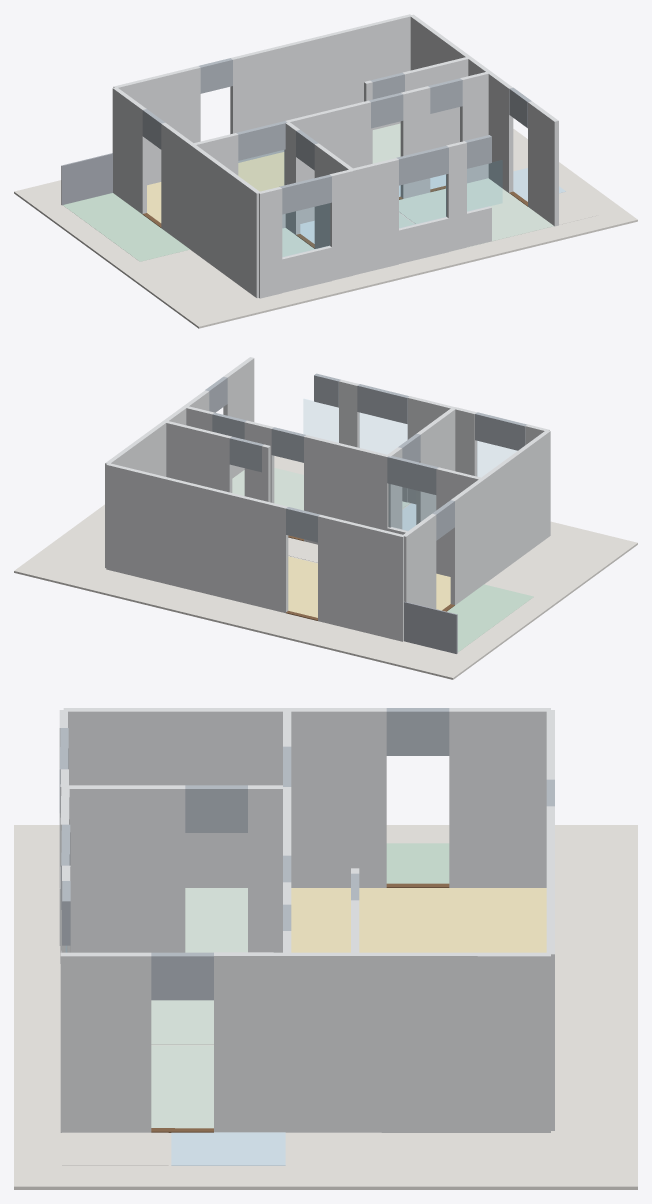
3 views of the same model, one above another, from view 1: azimuth 30°, elevation 25°; view 2: azimuth 150°, elevation 25°; view 3: azimuth 270°, elevation 25° (orthographic). The views are drawn at different scales.
Visible parts, largest first — view 1: floor_slab, wall_post_004_final, wall_002_w3, wall_post_001_00, wall_post_005_final, wall_post_004_00, room_finish_007_balcony, room_finish_004_bedroom, wall_post_007_00, wall_post_003_final, wall_post_005_00, wall_post_003_00 (+29 smaller); view 2: floor_slab, wall_post_004_final, wall_post_004_00, wall_002_w3, wall_post_007_00, wall_post_009_final, wall_post_003_00, wall_post_003_final, room_finish_007_balcony, wall_post_005_final, wall_post_008_00, balcony_rail_01 (+23 smaller); view 3: floor_slab, wall_post_005_final, wall_002_w3, wall_post_008_00, wall_post_003_final, wall_post_003_00, wall_post_005_00, room_finish_008_living_room, wall_post_008_final, room_finish_004_bedroom, room_finish_001_bedroom, room_finish_006_bathroom (+7 smaller).
Part boxes in pixels (x1,y1,x2,y2): floor_slab: (14, 129, 637, 328); wall_post_004_final: (230, 14, 411, 162); wall_002_w3: (190, 144, 259, 298); wall_post_001_00: (351, 158, 398, 275); wall_post_005_final: (410, 14, 513, 192); wall_post_004_00: (113, 66, 200, 185); room_finish_007_balcony: (63, 193, 189, 261); room_finish_004_bedroom: (399, 178, 553, 250); wall_post_007_00: (286, 100, 370, 223); wall_post_003_final: (112, 87, 146, 214); wall_post_005_00: (528, 101, 558, 226); wall_post_003_00: (161, 122, 193, 249); floor_slab: (14, 456, 637, 679); wall_post_004_final: (106, 463, 288, 613); wall_post_004_00: (318, 514, 403, 641); wall_002_w3: (480, 430, 550, 583); wall_post_007_00: (304, 435, 388, 544); wall_post_009_final: (165, 421, 232, 492); wall_post_003_00: (450, 478, 484, 605); wall_post_003_final: (402, 513, 436, 608); room_finish_007_balcony: (447, 584, 533, 652); wall_post_005_final: (105, 390, 209, 567); wall_post_008_00: (416, 407, 455, 524); balcony_rail_01: (404, 601, 457, 653); floor_slab: (14, 825, 637, 1189); wall_post_005_final: (214, 952, 550, 1132); wall_002_w3: (63, 708, 287, 887); wall_post_008_00: (65, 785, 185, 952); wall_post_003_final: (449, 708, 550, 887); wall_post_003_00: (287, 708, 386, 887); wall_post_005_00: (60, 952, 151, 1132); room_finish_008_living_room: (291, 888, 546, 952); wall_post_008_final: (248, 785, 282, 952); room_finish_004_bedroom: (151, 1045, 213, 1128); room_finish_001_bedroom: (185, 888, 247, 952); room_finish_006_bathroom: (171, 1132, 285, 1165).
Size of the model in its own units: 12.29 by 2.85 by 8.96.
